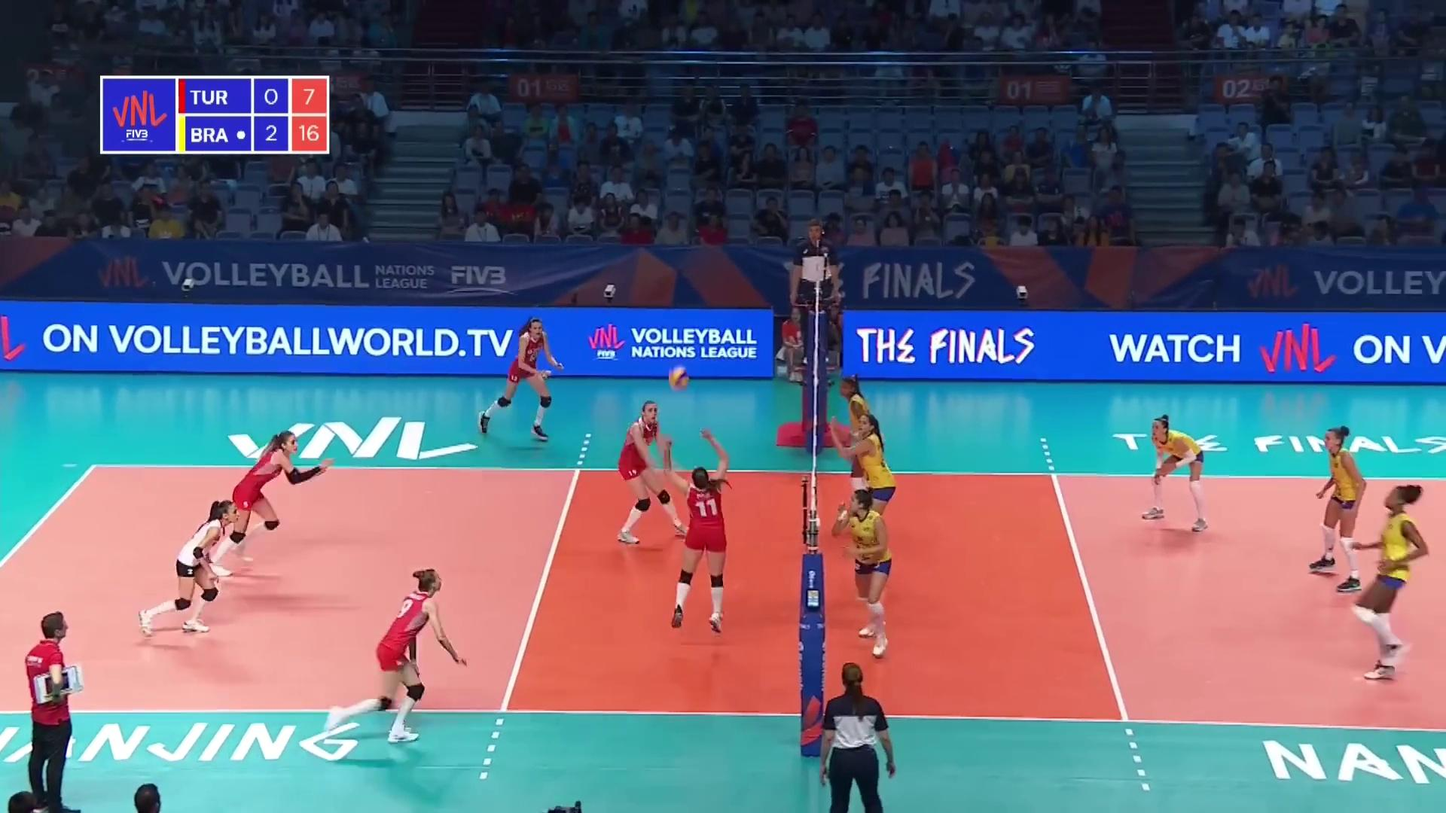player: (323, 569, 475, 749), (198, 423, 337, 579), (1334, 488, 1442, 683), (655, 451, 738, 632), (139, 499, 245, 640), (477, 308, 566, 444), (1301, 423, 1376, 580), (828, 407, 894, 582), (833, 484, 900, 653), (613, 402, 687, 548), (1138, 414, 1222, 531), (836, 374, 896, 516)
refree: (804, 660, 896, 810), (782, 217, 849, 388)
